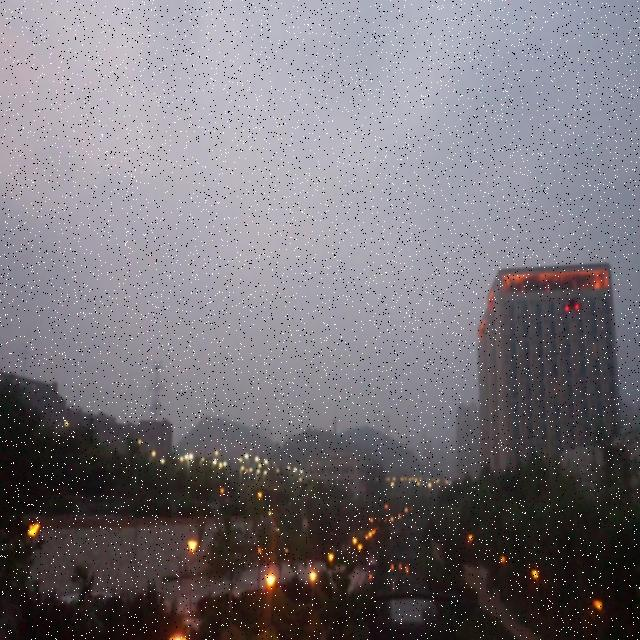UAV: (562, 296, 582, 313)
